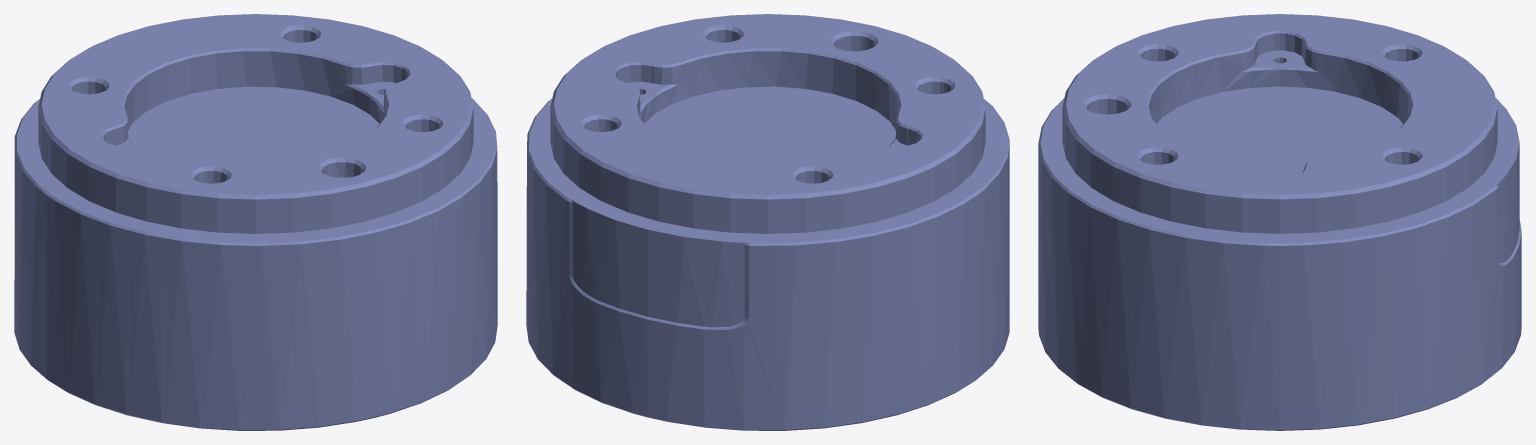
3 renders of one model, left to right at view 1: azimuth 30°, elevation 25°; view 2: azimuth 150°, elevation 25°; view 3: azimuth 270°, elevation 25°, orthographic.
Visible parts, largest first — view 1: Link6; view 2: Link6; view 3: Link6.
Boxes of the visible parts, <box> form: Link6: <box>14,14,497,430</box>; Link6: <box>526,14,1009,430</box>; Link6: <box>1038,14,1521,430</box>.
Bounding box in the file's own units: 0.07 × 0.07 × 0.036.
